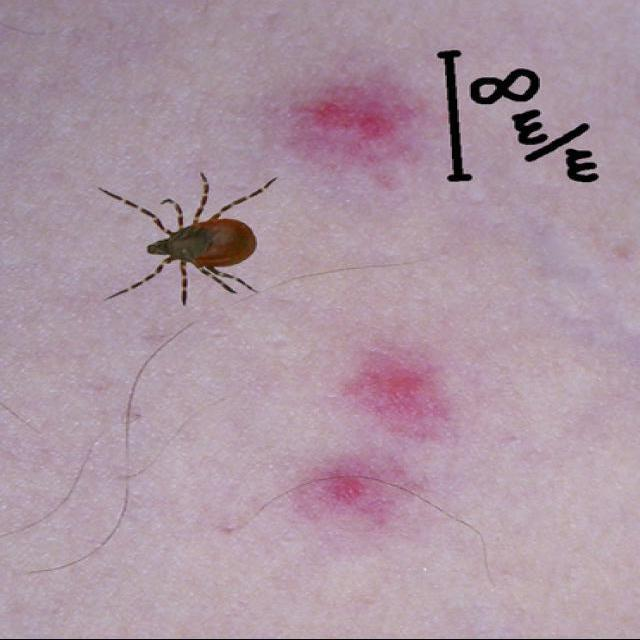Ixodes Ricinus-F: (98, 173, 279, 306)
